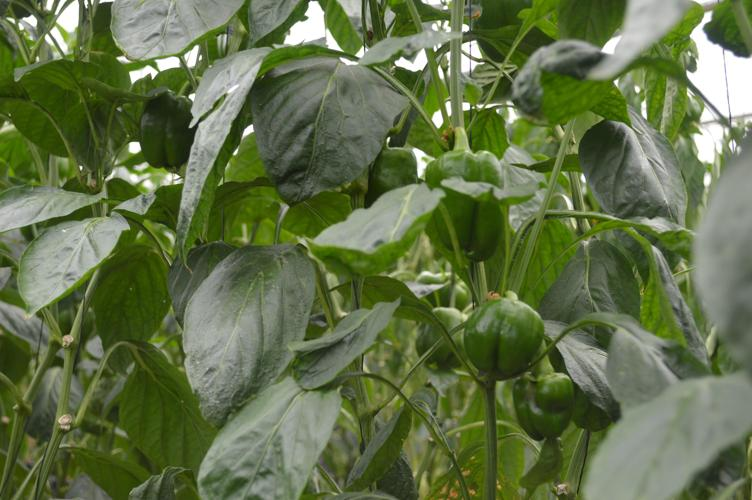BellPepper: (416, 145, 515, 262), (132, 85, 230, 187), (462, 289, 546, 381), (515, 367, 578, 451), (405, 301, 473, 371)
